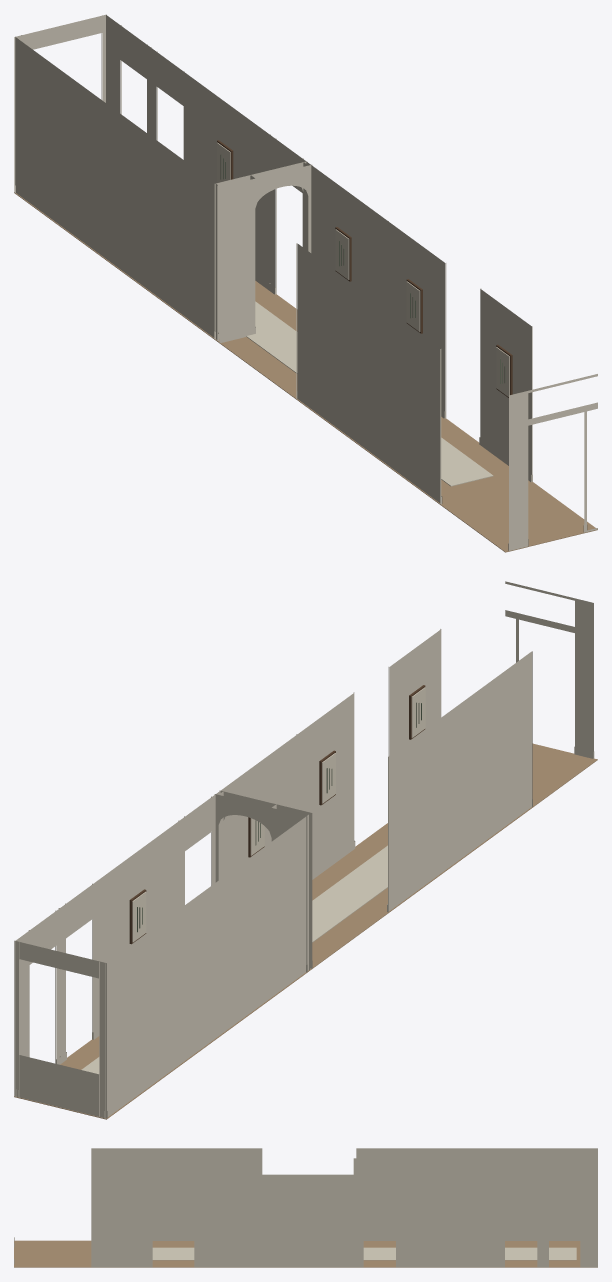
The model's file is corridor-3.glb.
3 renders of one model, top to bottom at view 1: azimuth 30°, elevation 25°; view 2: azimuth 150°, elevation 25°; view 3: azimuth 270°, elevation 25°, orthographic. The views are drawn at different scales.
Parts seen in each view (by area): view 1: DESIGN | corridor removable wall finish, DESIGN | corridor floor finish, DESIGN | Quiet hall runner; view 2: DESIGN | corridor removable wall finish, DESIGN | corridor floor finish, DESIGN | Quiet hall runner; view 3: DESIGN | corridor removable wall finish, DESIGN | corridor floor finish, DESIGN | Quiet hall runner.
Boxes of the visible parts, x1,y1,x2,y2 form: DESIGN | corridor removable wall finish: (14, 14, 597, 550); DESIGN | corridor floor finish: (14, 192, 597, 552); DESIGN | Quiet hall runner: (246, 301, 493, 486); DESIGN | corridor removable wall finish: (14, 581, 594, 1118); DESIGN | corridor floor finish: (14, 743, 597, 1119); DESIGN | Quiet hall runner: (81, 845, 387, 1074); DESIGN | corridor removable wall finish: (14, 1148, 597, 1267); DESIGN | corridor floor finish: (14, 1240, 597, 1267); DESIGN | Quiet hall runner: (152, 1247, 576, 1260).
Bounding box in the file's own units: 1.7 × 2.74 × 15.63.
